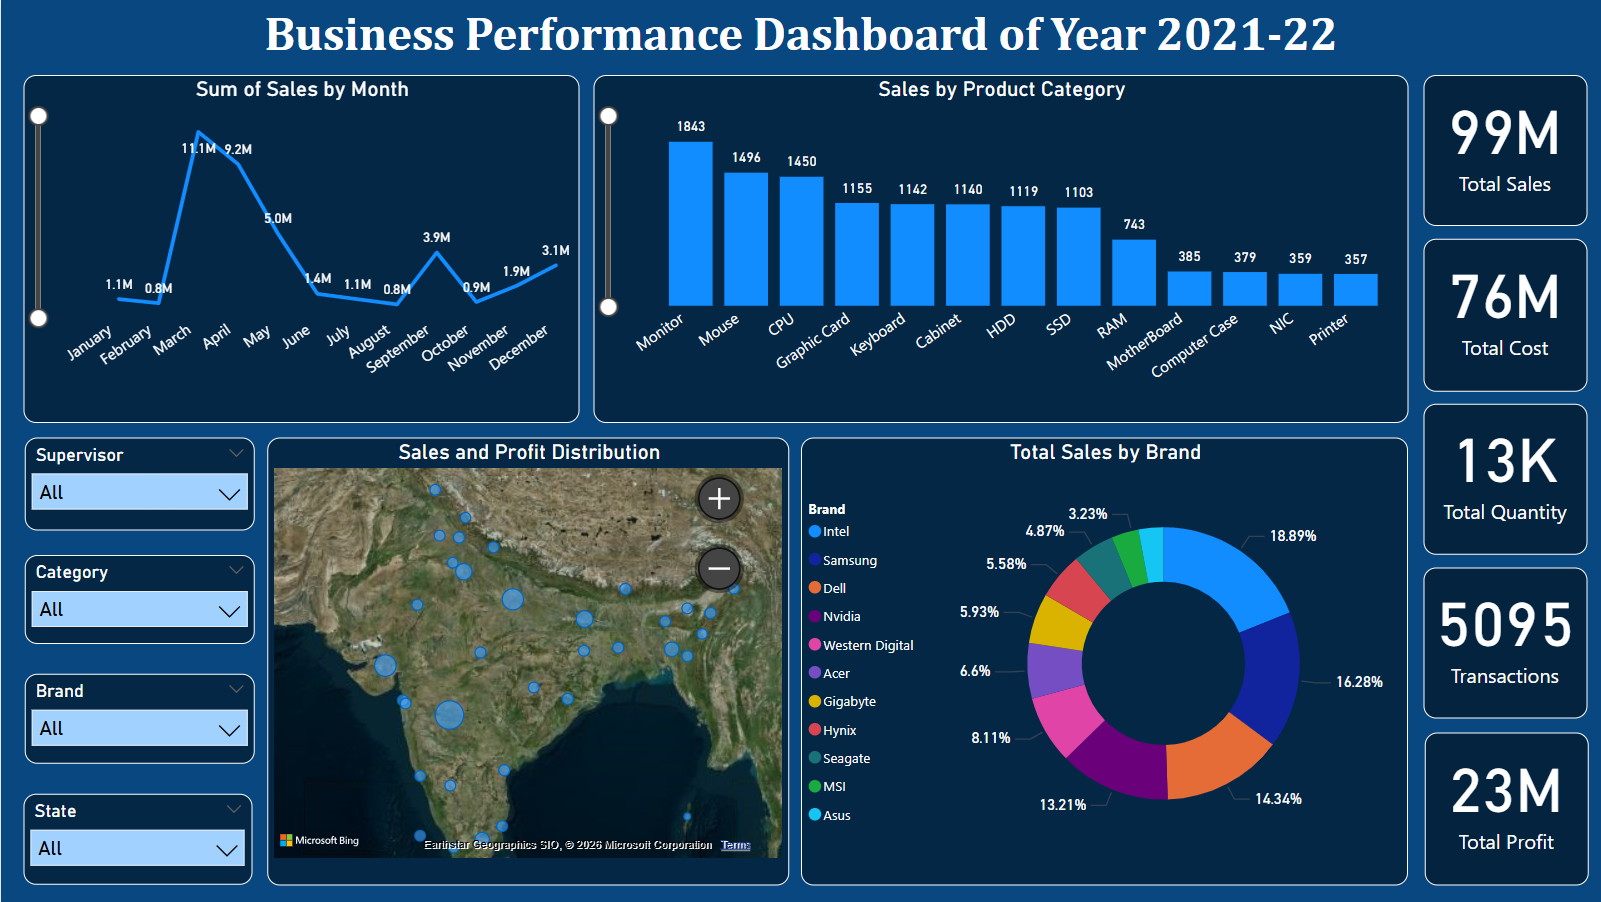

What the dashboard file says about the page in this screenshot:
{"tool":"powerbi","page":{"name":"Page 1","canvas":[1284,726],"ordinal":0},"visuals":[{"type":"textbox","box":[0,0,1280,60],"z":0},{"type":"card","fields":{"Values":["Sum(Sales_Data.Total_Sales)"]},"box":[1137.5,60,131.2,121.2],"z":1000},{"type":"card","fields":{"Values":["Sum(Sales_Data.Total_Cost)"]},"box":[1137.5,191.2,131.2,121.2],"z":2000},{"type":"card","fields":{"Values":["Sum(Sales_Data.Quantity)"]},"box":[1137.5,322.5,131.2,121.2],"z":3000},{"type":"card","fields":{"Values":["CountNonNull(Sales_Data.Order_Number)"]},"box":[1137.5,453.8,131.2,121.2],"z":4000},{"type":"card","fields":{"Values":["Sales_Data.Total_Profit"]},"box":[1138.8,586.2,131.2,121.2],"z":5000},{"type":"clusteredColumnChart","title":"Quantity by Product Category","fields":{"Y":["Sum(Sales_Data.Quantity)"],"Category":["Sales_Data.Category"]},"box":[473.8,60,652.5,277.5],"z":6000},{"type":"donutChart","title":"Total Sales by Brand","fields":{"Y":["Sum(Sales_Data.Total_Sales)"],"Category":["Sales_Data.Brand"]},"box":[640,350,486.2,357.5],"z":7000},{"type":"map","title":"Sales and Profit Distribution","fields":{"Category":["State_list.State"],"Size":["Sum(Sales_Data.Sales)"]},"box":[212.5,350,418.8,357.5],"z":8000},{"type":"slicer","fields":{"Values":["Supervisor.Supervisor"]},"box":[18.8,350,183.8,73.8],"z":9000},{"type":"slicer","fields":{"Values":["Sales_Data.Category"]},"box":[18.8,443.8,183.8,71.2],"z":10000},{"type":"slicer","fields":{"Values":["Sales_Data.Brand"]},"box":[18.8,538.8,183.8,72.5],"z":11000},{"type":"slicer","fields":{"Values":["State_list.State"]},"box":[17.5,635,183.8,72.5],"z":12000},{"type":"lineChart","fields":{"Y":["Sum(Sales_Data.Sales)"],"Category":["Sales_Data.Order_Date.Variation.Date Hierarchy.Month"]},"box":[17.5,60,445,277.5],"z":13000}]}

Visuals, with their boxes in screenshot pixels (x1, y1, x2, y2), scaled from the page's 1284x726 canvas onto the 1601x902 screenshot:
textbox: bbox=[0, 0, 1596, 75]
card - Sum(Sales_Data.Total_Sales): bbox=[1418, 75, 1582, 225]
card - Sum(Sales_Data.Total_Cost): bbox=[1418, 238, 1582, 388]
card - Sum(Sales_Data.Quantity): bbox=[1418, 401, 1582, 551]
card - CountNonNull(Sales_Data.Order_Number): bbox=[1418, 564, 1582, 714]
card - Sales_Data.Total_Profit: bbox=[1420, 728, 1584, 879]
"Quantity by Product Category" clusteredColumnChart: bbox=[591, 75, 1404, 419]
"Total Sales by Brand" donutChart: bbox=[798, 435, 1404, 879]
"Sales and Profit Distribution" map: bbox=[265, 435, 787, 879]
slicer - Supervisor.Supervisor: bbox=[23, 435, 253, 527]
slicer - Sales_Data.Category: bbox=[23, 551, 253, 640]
slicer - Sales_Data.Brand: bbox=[23, 669, 253, 759]
slicer - State_list.State: bbox=[22, 789, 251, 879]
lineChart - Sum(Sales_Data.Sales) x Sales_Data.Order_Date.Variation.Date Hierarchy.Month: bbox=[22, 75, 577, 419]
